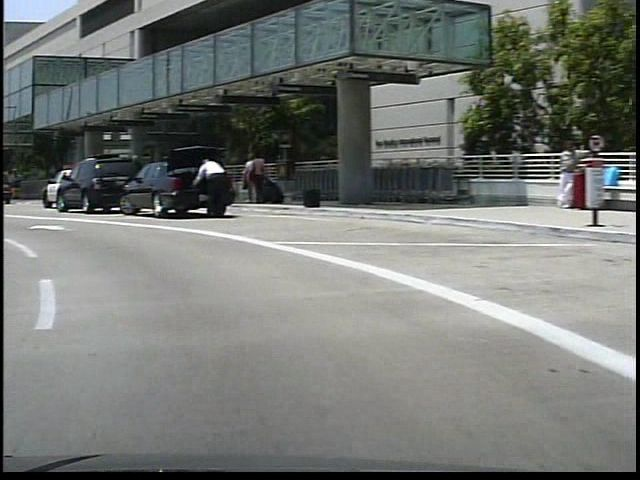person: (187, 158, 228, 225), (244, 154, 263, 209), (235, 153, 253, 208)
